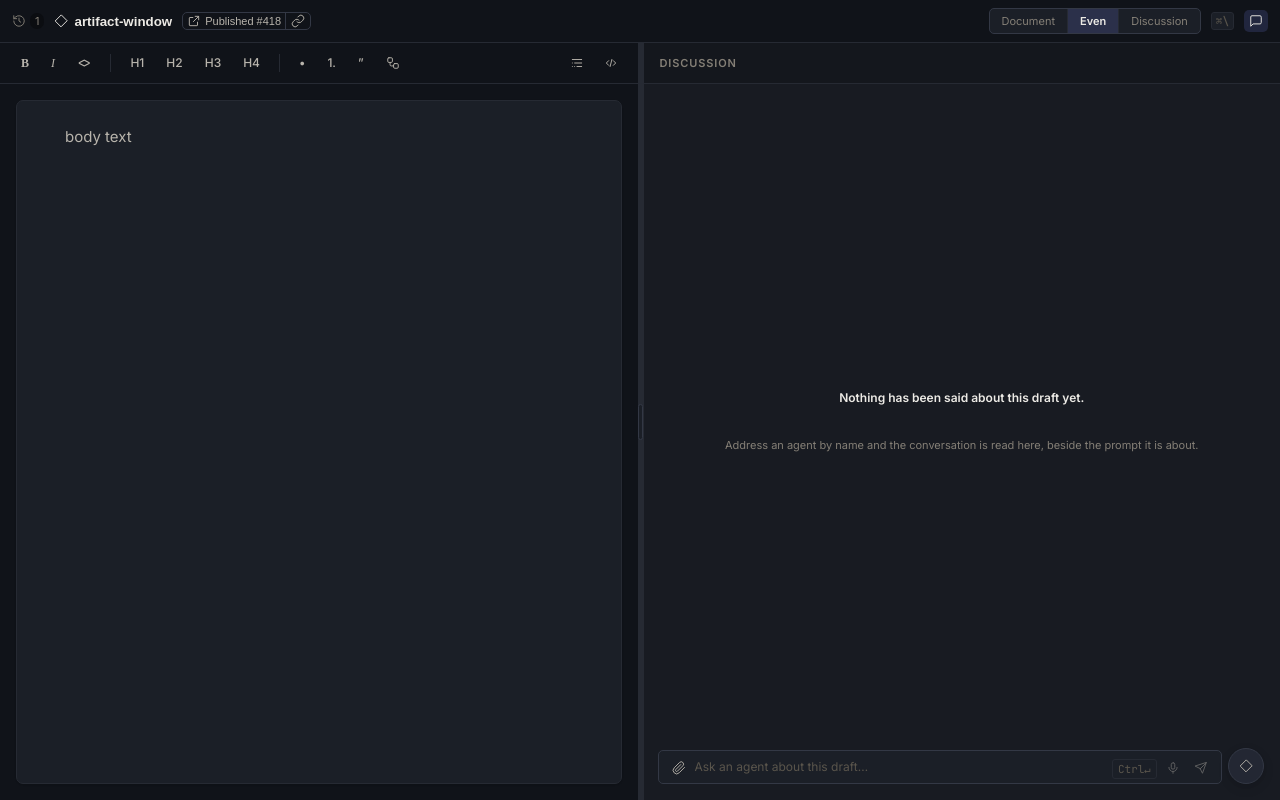
Test: New Artifact workspace — Update on GitHub › ACT-FR-SSHS, NAW-FR-KMLN: a draft with a current record offers Update on GitHub in the place of Publish to GitHub
This screenshot has width=1280, height=800.
Expected: the button with test id "draft-publication-tag" is shown, [183,13,285,29]
Click the button named "Draft actions". click: (1246, 766)
box: [1228,748,1264,784]
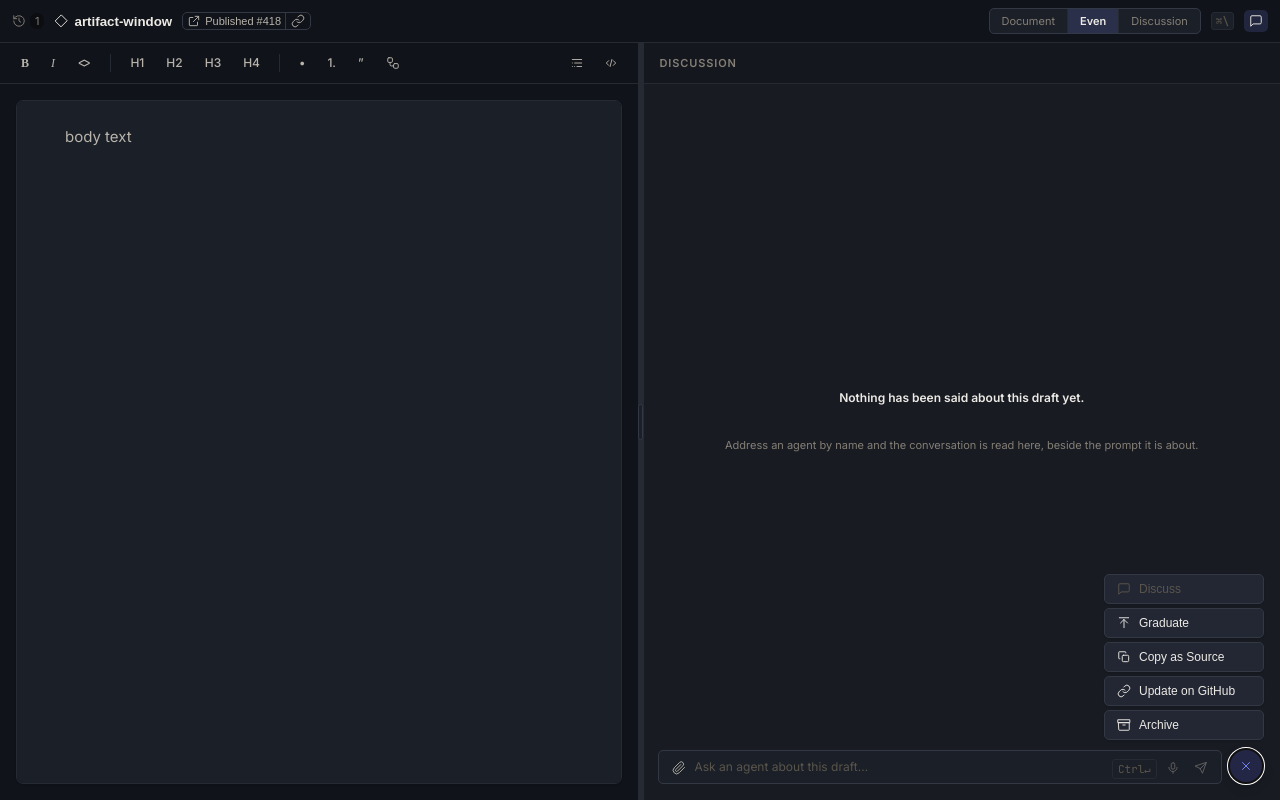
Expected: the menu items read "Discuss", "Graduate", "Copy as Source", "Update on GitHub", "Archive", in this order, [1104,574,1264,604]; [1104,608,1264,638]; [1104,642,1264,672]; [1104,676,1264,706]; [1104,710,1264,740]
